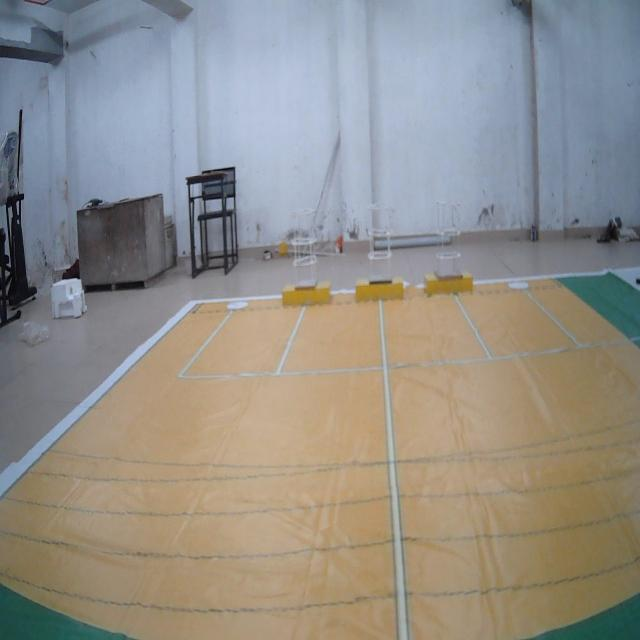silo: (432, 184, 463, 279), (367, 197, 394, 287), (292, 199, 318, 285)
